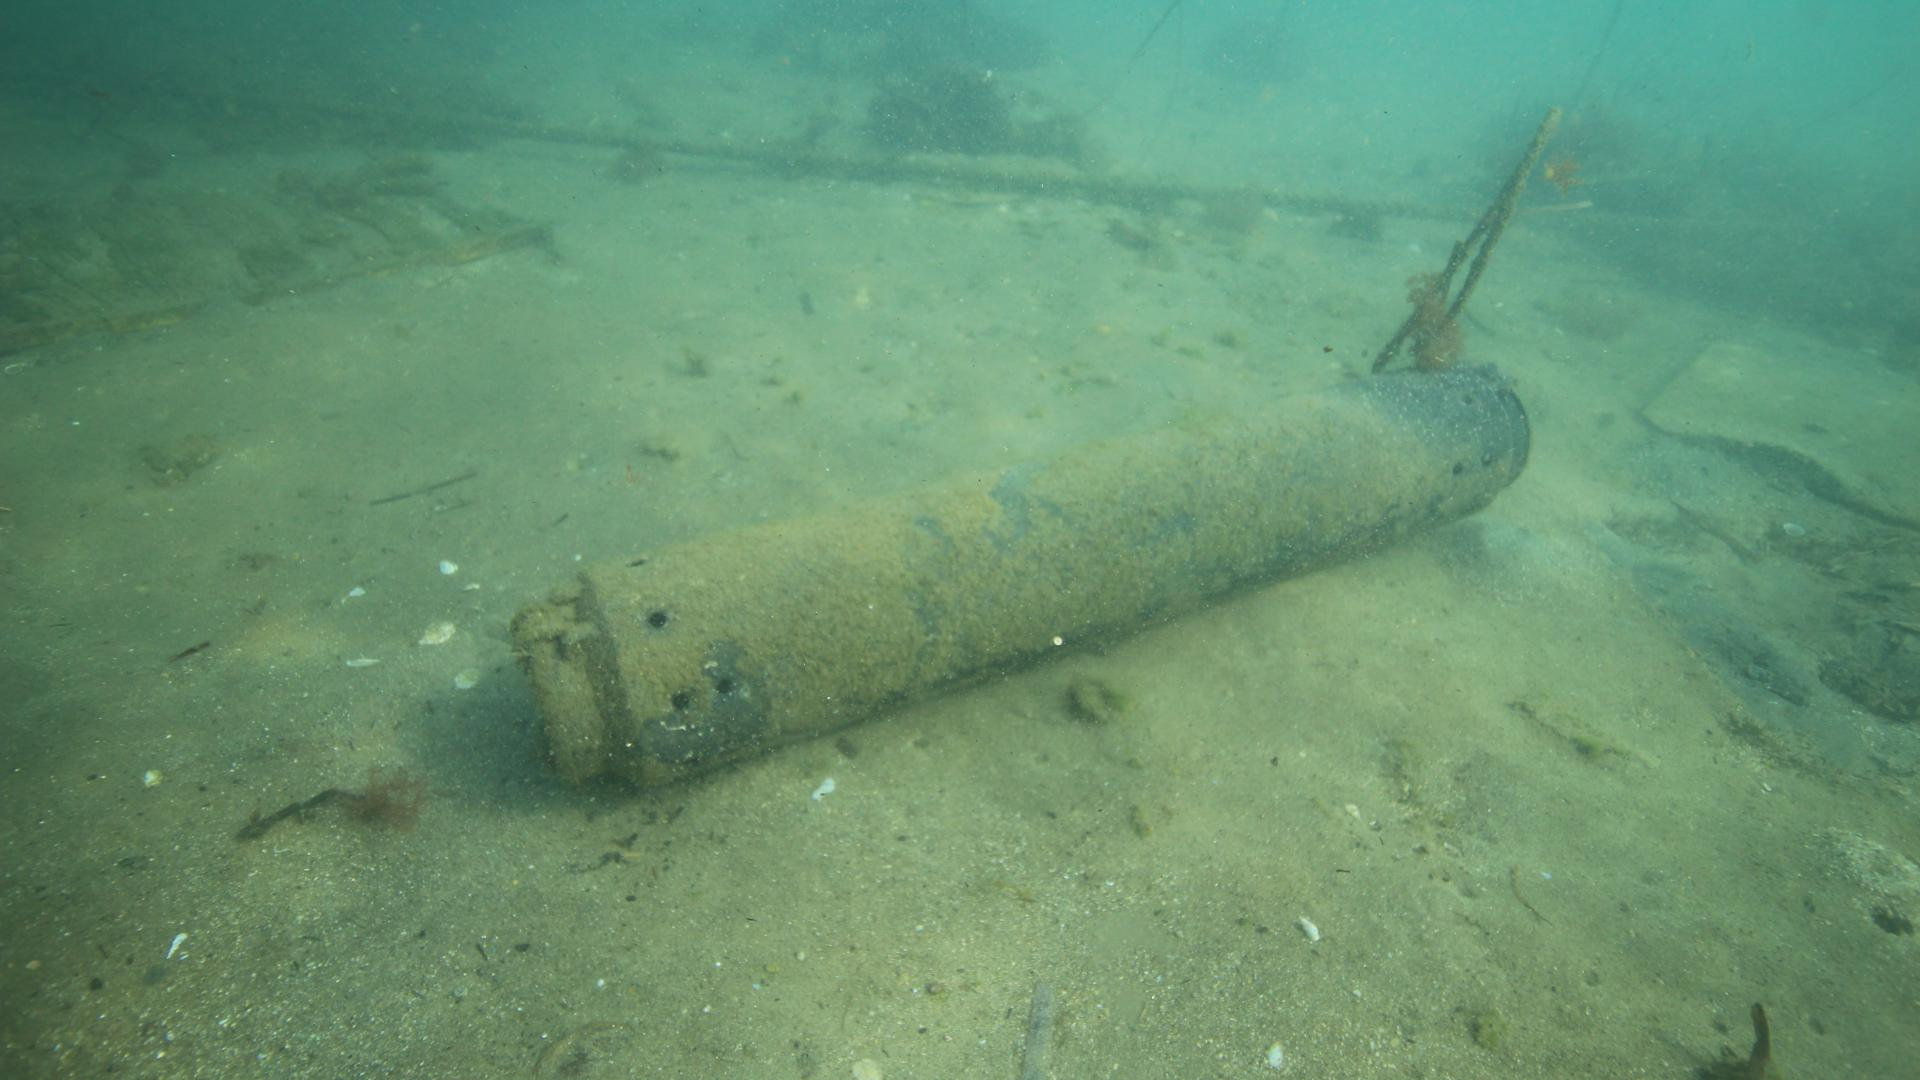eel fish trap: (510, 353, 1538, 789)
rope: (290, 88, 1590, 233), (1374, 96, 1567, 361)
